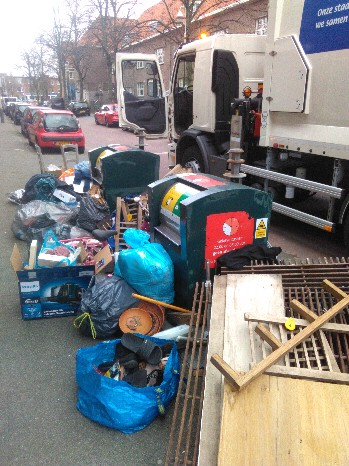Container: (143, 175, 263, 248), (92, 136, 154, 190)
Rest: (205, 270, 349, 466), (92, 341, 177, 417), (29, 248, 98, 337), (112, 236, 183, 305), (18, 209, 105, 262), (97, 192, 179, 244), (90, 278, 135, 339), (43, 201, 123, 229), (26, 170, 64, 207), (70, 159, 101, 191)
Voertuig: (132, 32, 349, 166), (4, 92, 74, 145), (49, 83, 120, 125)
